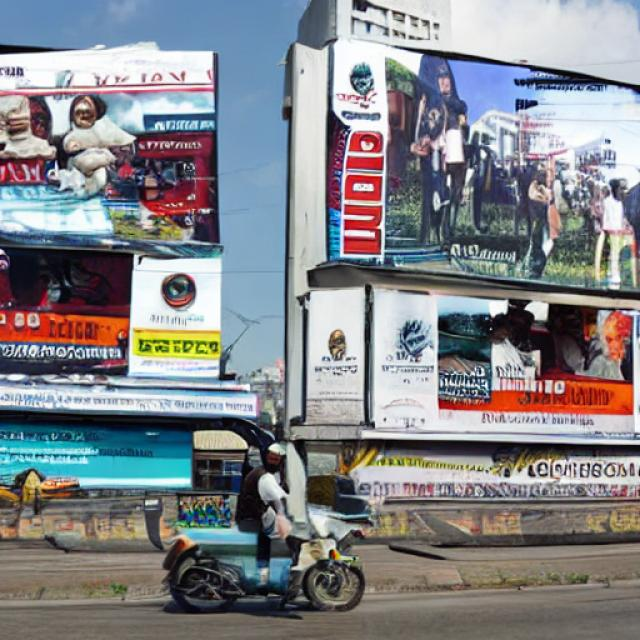Billboard: (324, 34, 640, 297), (0, 46, 220, 381)
